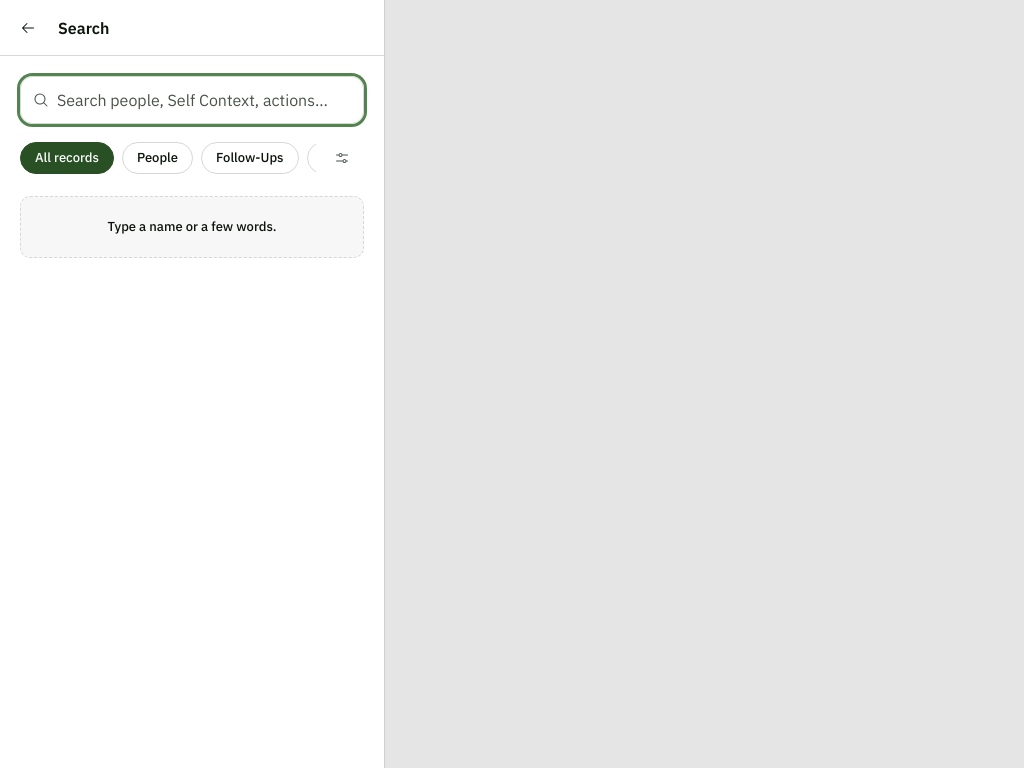
SearchFlow › keeps record type in reach and folds the rarer narrowings behind a counted control
Expected: the dropdown labelled "Match" is not shown
Step 1. Click the button named "More filters" → (342, 158), box [320,136,364,180]
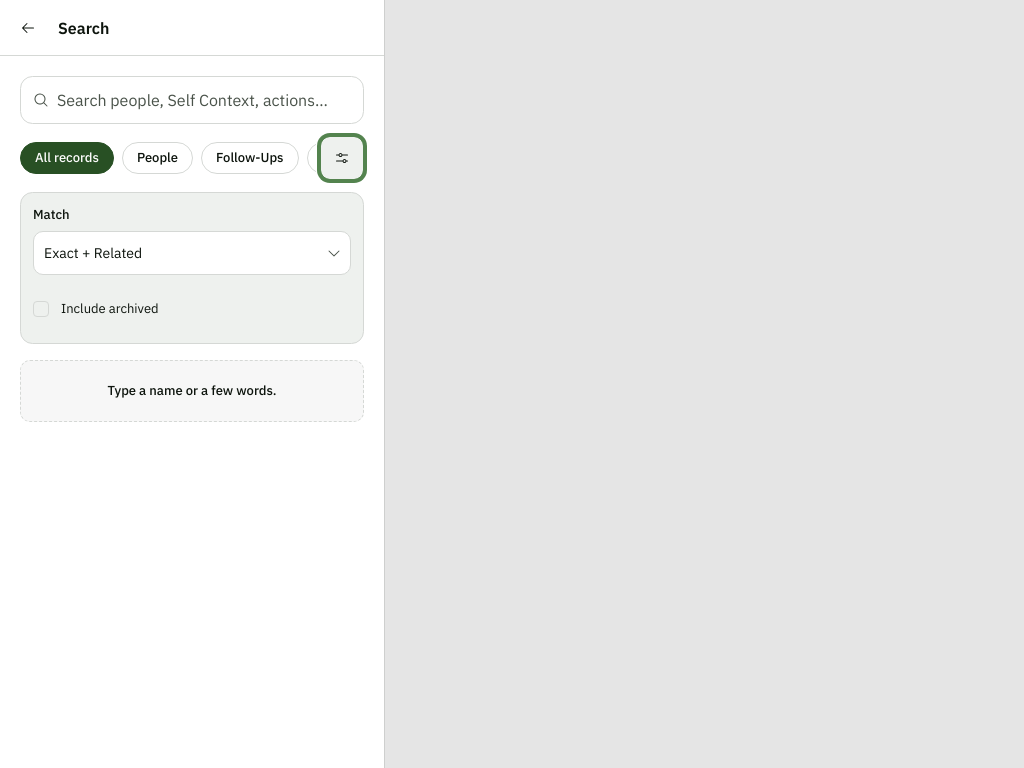
Now the dropdown named "Match" is shown, box [33,231,351,275]
Step 2. Click the checkbox named "Include archived" → (41, 309), box [33,301,49,317]
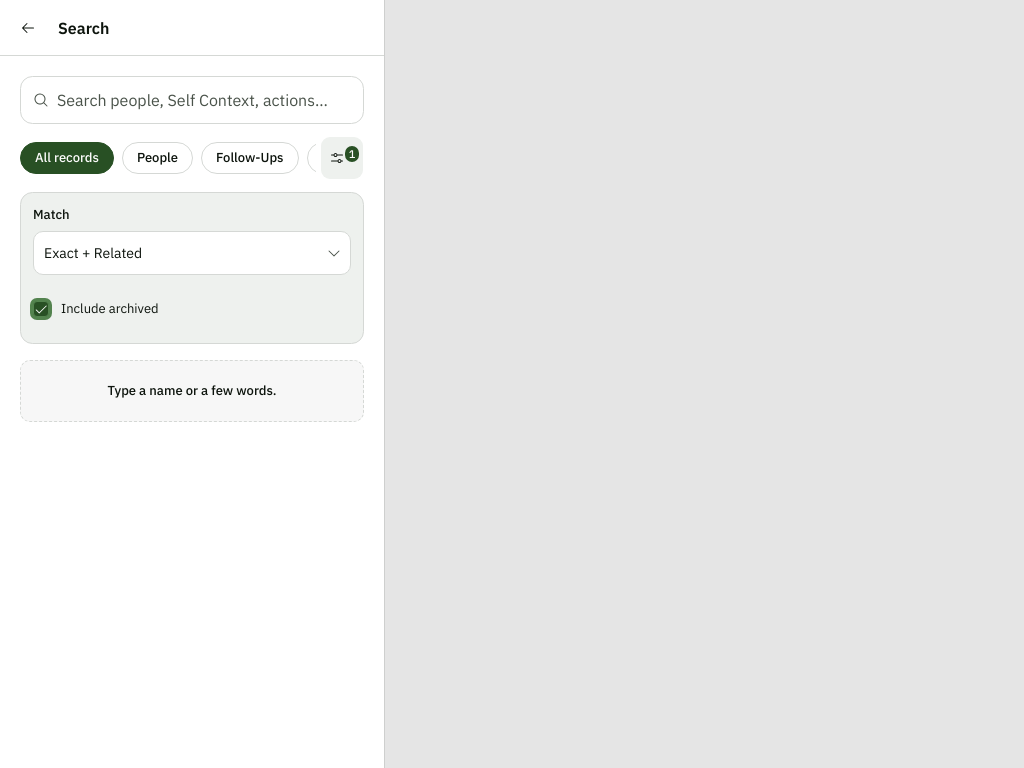
Now the button named "More filters" reads "1", box [320,136,364,180]
